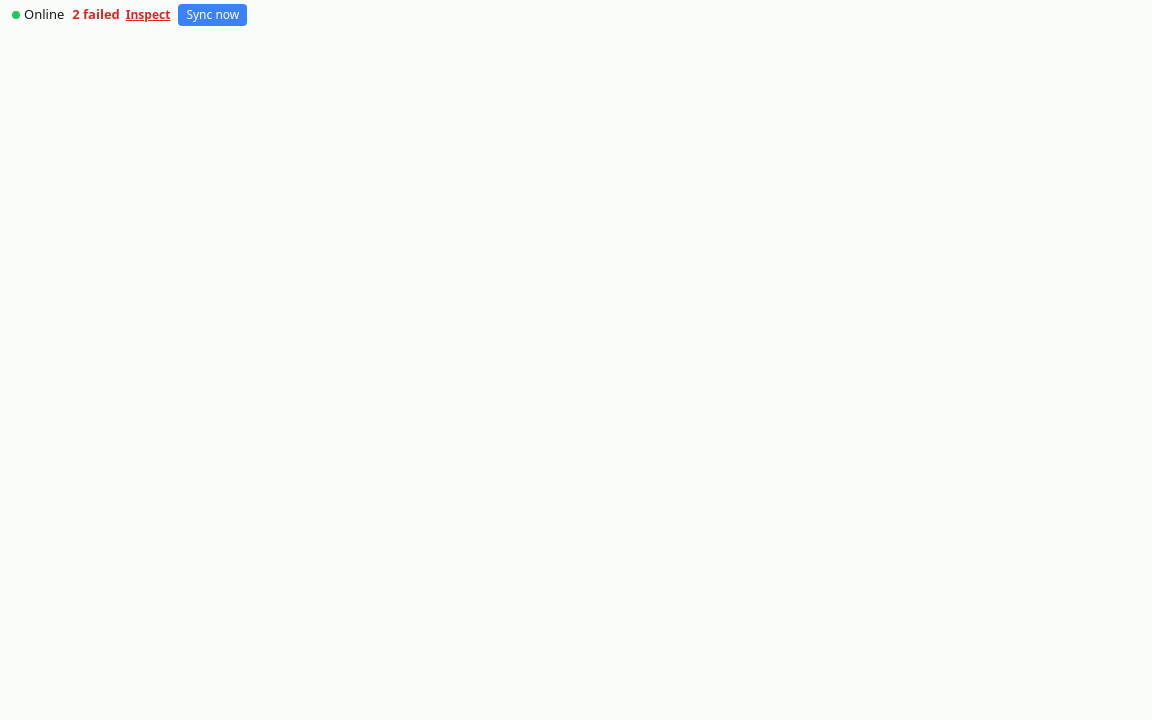
Test: SyncStatusContainer › desktop runtime › opens outbox inspector when Inspect Failures button is clicked
Click the button with test id "inspect-failures-btn" at [148, 15], box x1=126 y1=6 x2=170 y2=24
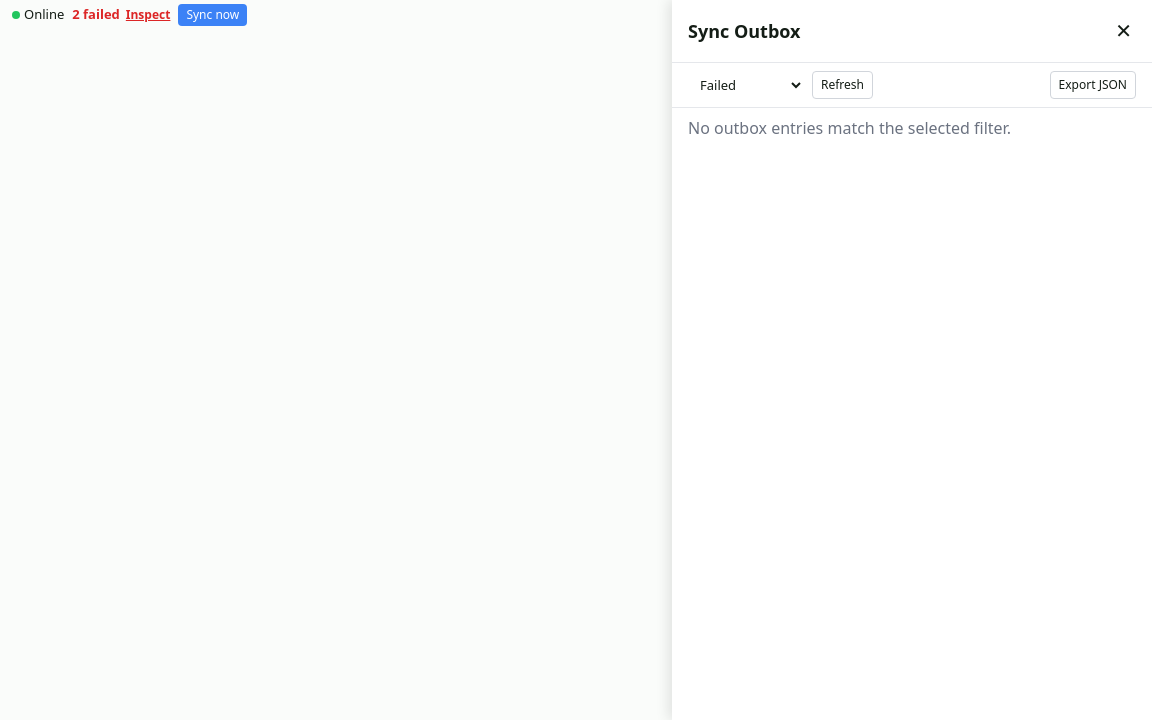
Check: the element with test id "outbox-inspector" is shown, box x1=672 y1=0 x2=1151 y2=719
